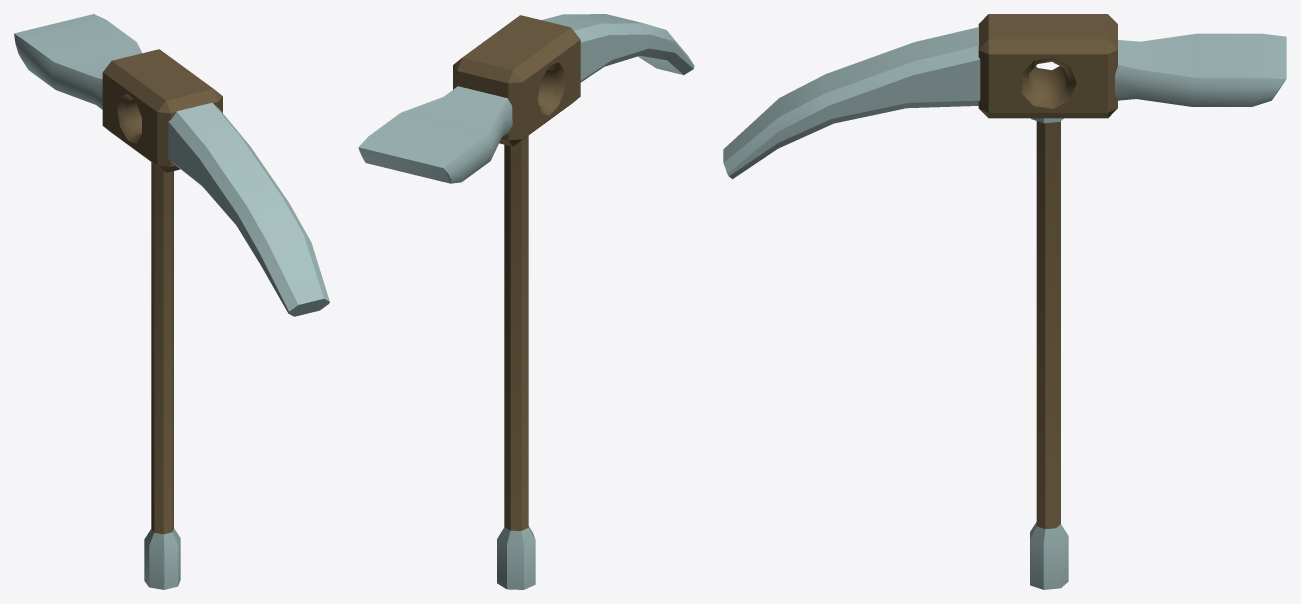
Rendered from Summit Pickaxe.fbx.
3 views of the same model, side by side, from view 1: azimuth 30°, elevation 25°; view 2: azimuth 150°, elevation 25°; view 3: azimuth 270°, elevation 25° (orthographic). The views are drawn at different scales.
Visible parts, largest first — view 1: Pickaxe; view 2: Pickaxe; view 3: Pickaxe.
Part boxes in pixels (<box>): Pickaxe: <box>14,14,329,589</box>; Pickaxe: <box>358,14,694,589</box>; Pickaxe: <box>723,14,1286,589</box>.
Size of the model in its own units: 191 by 1045 by 961.
